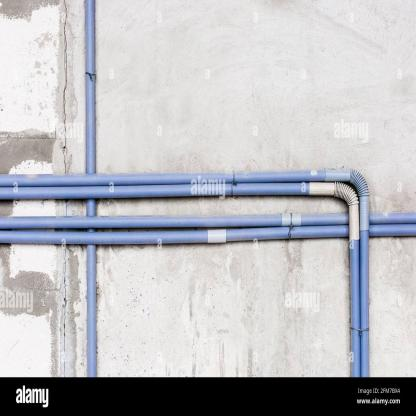PVC: (1, 169, 372, 378), (0, 209, 349, 246), (86, 0, 96, 172), (87, 246, 98, 379), (370, 211, 416, 237), (87, 200, 98, 216)
